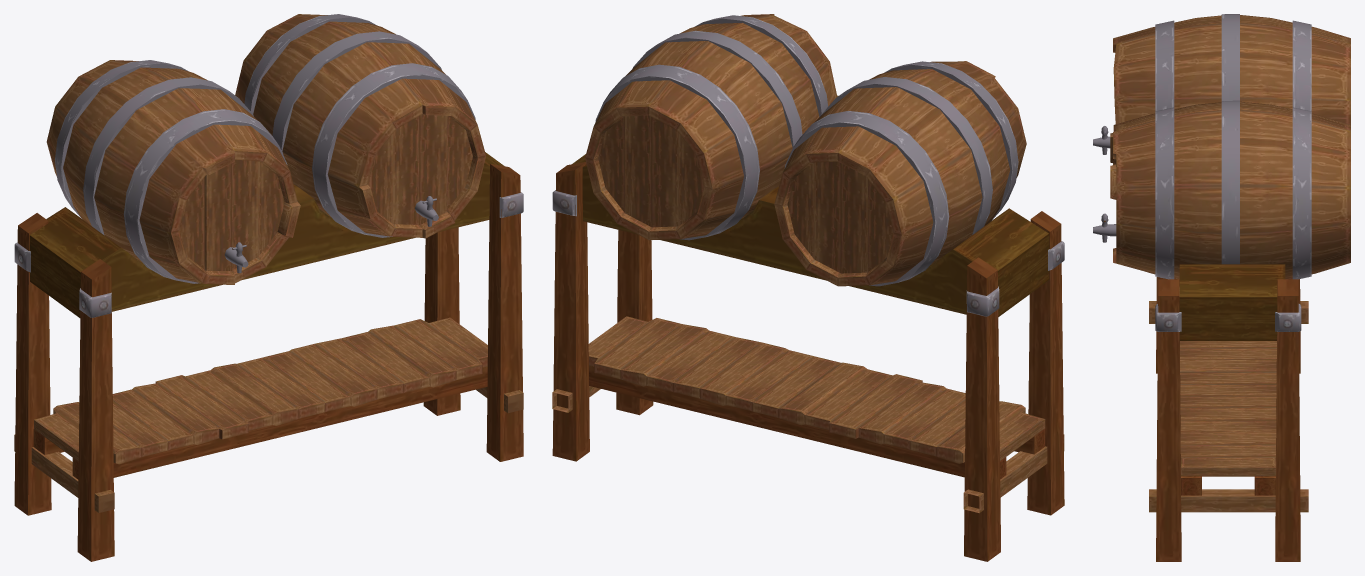
The model's file is Barrel_Holder.gltf.
3 views of the same model, side by side, from view 1: azimuth 30°, elevation 25°; view 2: azimuth 150°, elevation 25°; view 3: azimuth 270°, elevation 25° (orthographic). The views are drawn at different scales.
Visible parts, largest first — view 1: Barrel_Holder; view 2: Barrel_Holder; view 3: Barrel_Holder.
Part boxes in pixels (<box>): Barrel_Holder: <box>14,14,523,561</box>; Barrel_Holder: <box>552,14,1064,561</box>; Barrel_Holder: <box>1093,14,1350,561</box>.
Size of the model in its own units: 1.36 by 1.26 by 0.741.
Materials: 2 (2 with a texture image).
